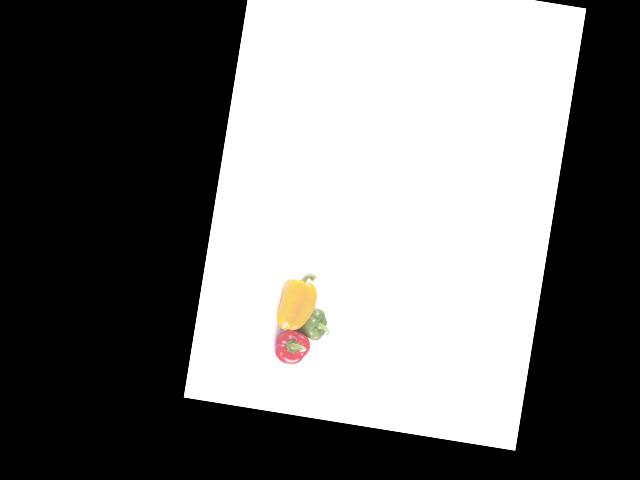bell_pepper: (295, 302, 333, 345)
